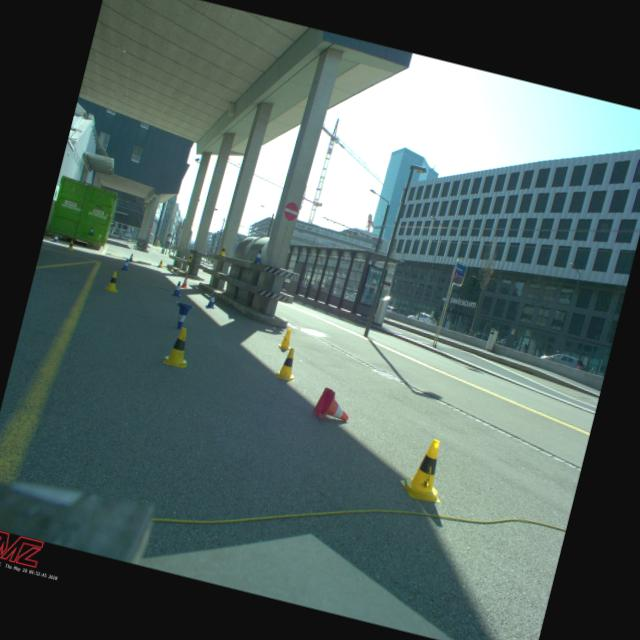blue_cone: (170, 302, 194, 332), (204, 290, 218, 308), (170, 280, 184, 298), (253, 248, 264, 264), (120, 258, 130, 271), (51, 232, 60, 242), (128, 253, 134, 262), (88, 227, 94, 235)
orange_cone: (310, 385, 354, 426), (180, 275, 190, 288)
yellow_cone: (396, 434, 454, 504), (163, 324, 195, 368), (274, 346, 301, 382), (102, 269, 122, 293), (276, 326, 294, 350), (66, 240, 76, 252), (220, 244, 228, 256), (158, 258, 165, 268), (187, 254, 193, 262)
